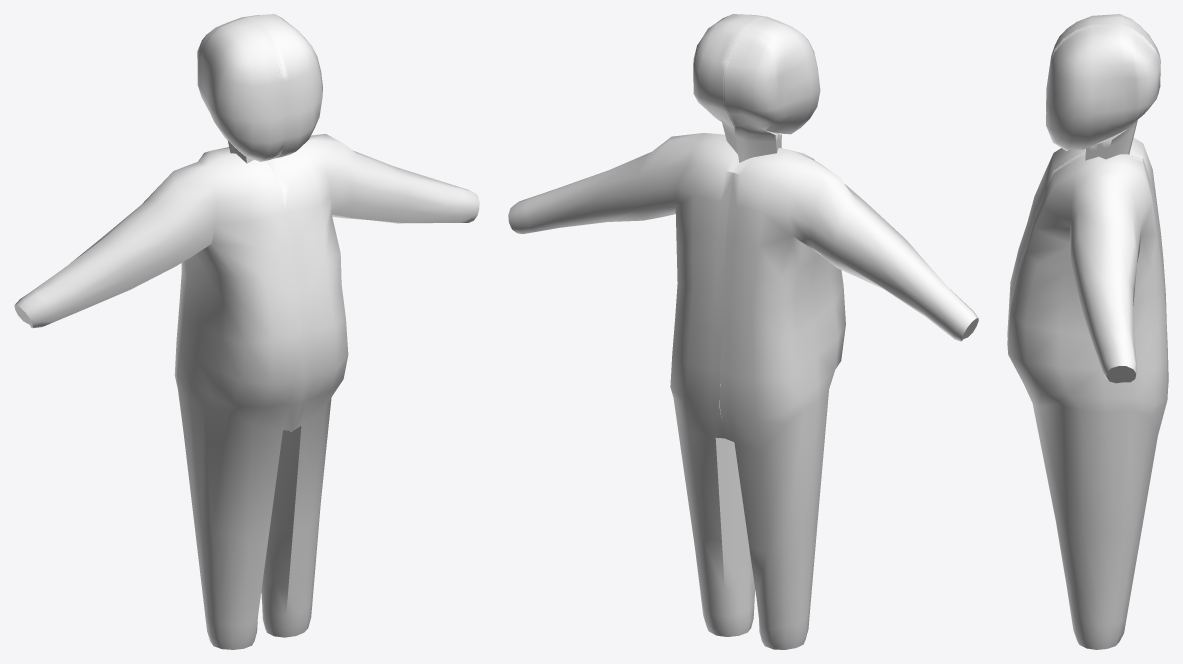
File: Color_character_5.fbx
The picture shows the model from 3 angles, left to right: view 1: azimuth 30°, elevation 25°; view 2: azimuth 150°, elevation 25°; view 3: azimuth 270°, elevation 25°; orthographic projection.
Visible parts, largest first — view 1: Cube.002; view 2: Cube.002; view 3: Cube.002.
Part boxes in pixels (x1=…): Cube.002: x1=14, y1=14, x2=479, y2=649; Cube.002: x1=508, y1=14, x2=978, y2=649; Cube.002: x1=1007, y1=14, x2=1168, y2=649.
Bounding box in the file's own units: 905 × 1152 × 279.
